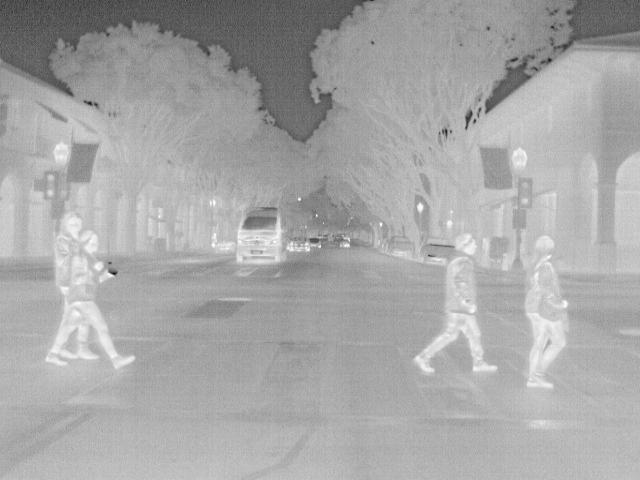car: (235, 206, 289, 264), (419, 234, 455, 266), (386, 236, 414, 257), (212, 238, 234, 256), (286, 236, 310, 252), (305, 236, 322, 250)
person: (45, 227, 138, 371), (412, 232, 497, 377), (523, 234, 570, 388), (51, 209, 85, 300)
